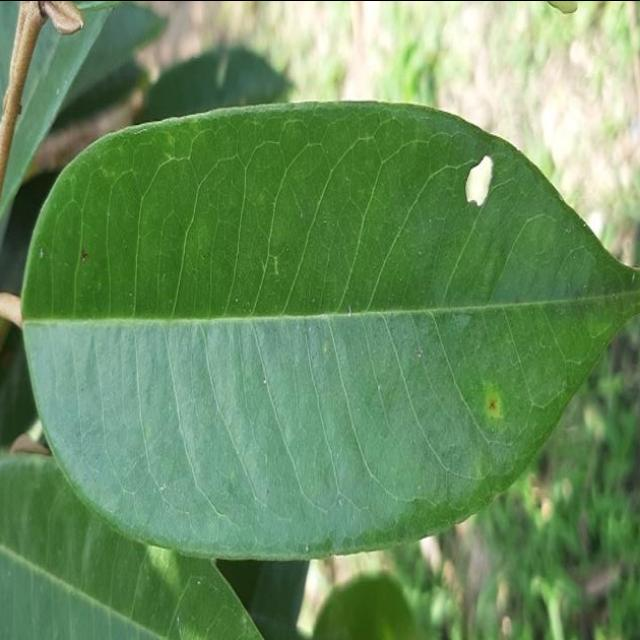No Disease: (31, 97, 640, 579)
